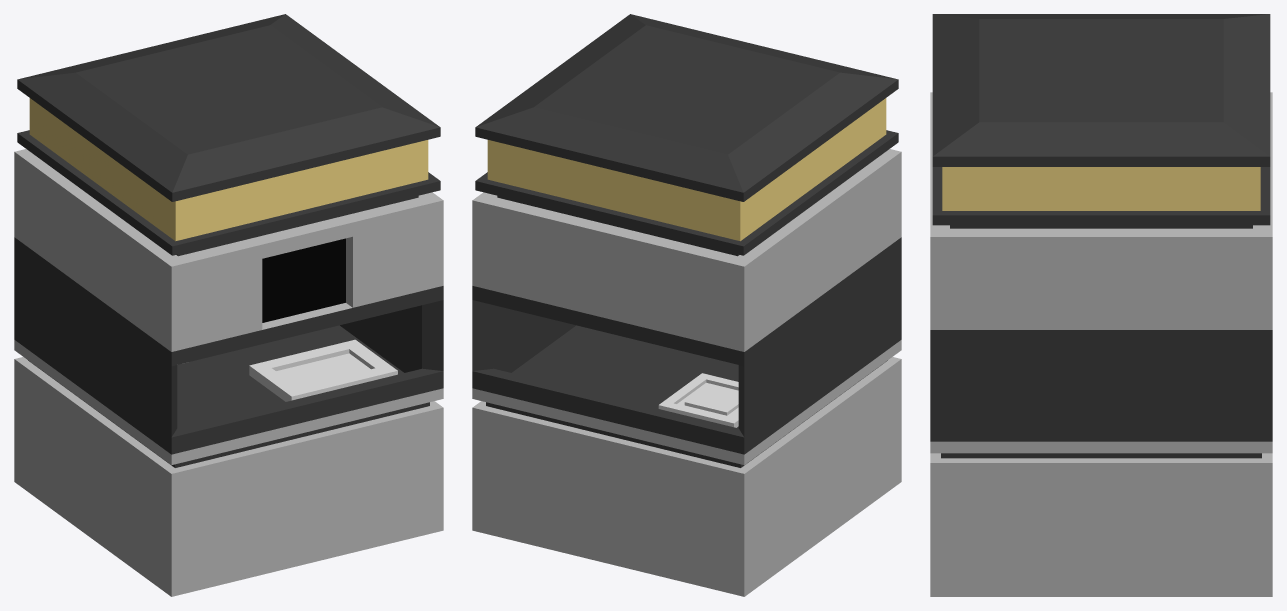
The model's file is Smelter.fbx.
3 views of the same model, side by side, from view 1: azimuth 30°, elevation 25°; view 2: azimuth 150°, elevation 25°; view 3: azimuth 270°, elevation 25° (orthographic). The views are drawn at different scales.
Parts seen in each view (by area): view 1: Smelter_LOD0; view 2: Smelter_LOD0; view 3: Smelter_LOD0.
Boxes of the visible parts, x1,y1,x2,y2 form: Smelter_LOD0: [14, 14, 443, 596]; Smelter_LOD0: [472, 14, 901, 596]; Smelter_LOD0: [930, 14, 1272, 596].
Size of what is drawn, in the model's own units: 200 by 293 by 200.
